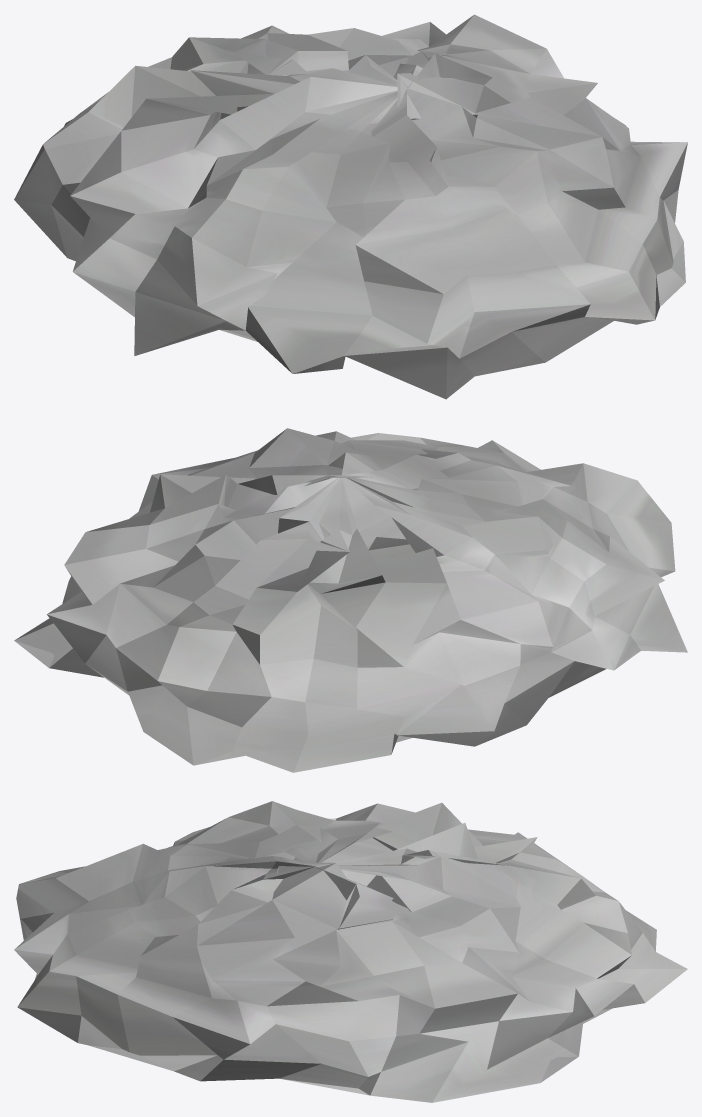
Rendered from puing.fbx.
The picture shows the model from 3 angles, top to bottom: view 1: azimuth 30°, elevation 25°; view 2: azimuth 150°, elevation 25°; view 3: azimuth 270°, elevation 25°; orthographic projection. The views are drawn at different scales.
Visible parts, largest first — view 1: Sphere.005; view 2: Sphere.005; view 3: Sphere.005.
Boxes of the visible parts, <box> form: Sphere.005: <box>14,14,687,399</box>; Sphere.005: <box>14,428,687,772</box>; Sphere.005: <box>14,801,687,1102</box>.
Size of the model in its own units: 393 by 107 by 461.
